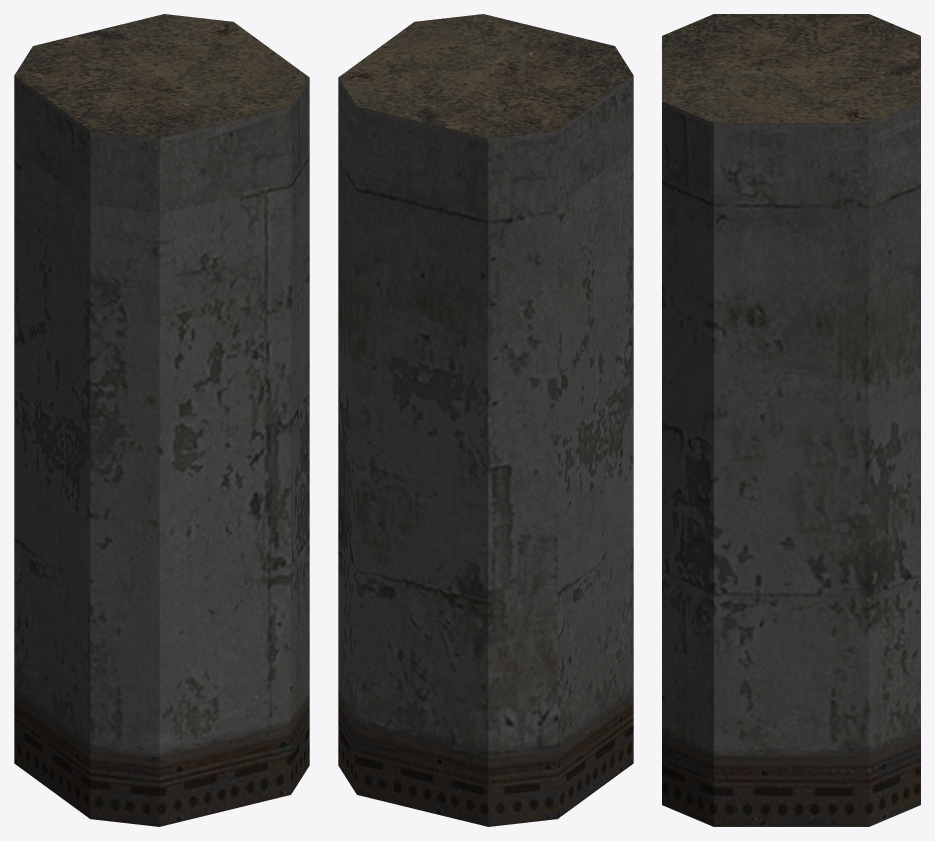
File: pillar_rtx_1.obj
3 renders of one model, left to right at view 1: azimuth 30°, elevation 25°; view 2: azimuth 150°, elevation 25°; view 3: azimuth 270°, elevation 25°, orthographic. The views are drawn at different scales.
Parts seen in each view (by area): view 1: pillar_rtx_1; view 2: pillar_rtx_1; view 3: pillar_rtx_1.
Part boxes in pixels (x1,y1,x2,y2): pillar_rtx_1: [14, 14, 309, 826]; pillar_rtx_1: [338, 14, 633, 826]; pillar_rtx_1: [662, 14, 920, 826].
Size of the model in its own units: 1 by 3 by 1.
